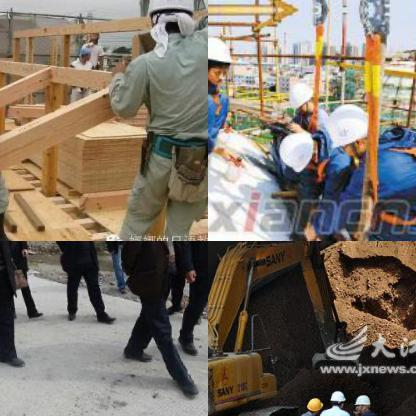Helmet: (330, 98, 370, 157), (145, 0, 200, 38), (274, 131, 322, 171), (208, 34, 234, 84), (288, 80, 310, 114), (74, 43, 92, 62), (354, 391, 370, 411), (305, 396, 321, 410), (329, 389, 343, 405)
